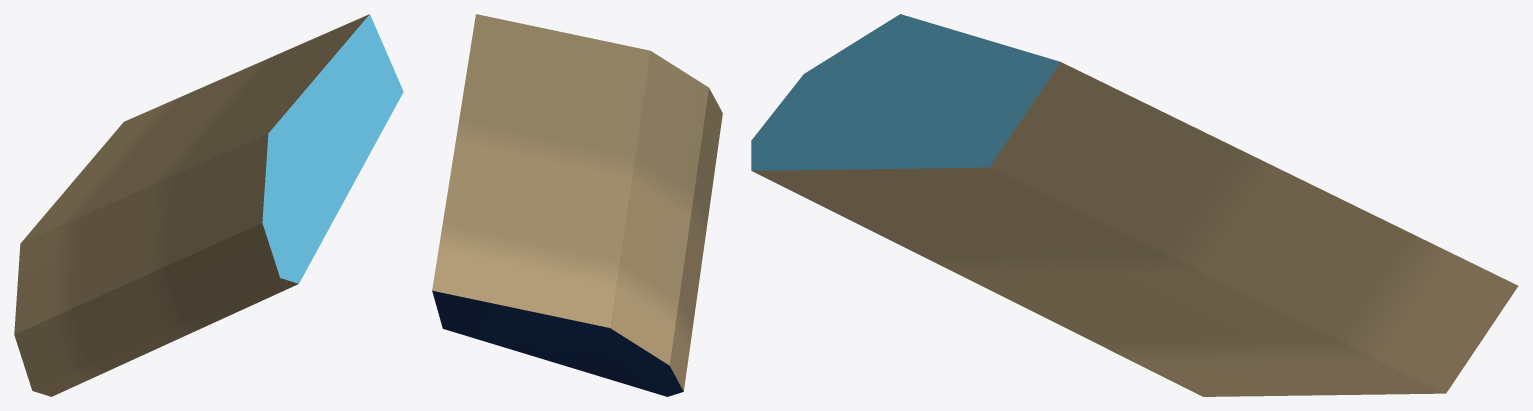
The model's file is 069a_Moldova.glb.
The picture shows the model from 3 angles, left to right: view 1: azimuth 30°, elevation 25°; view 2: azimuth 150°, elevation 25°; view 3: azimuth 270°, elevation 25°; orthographic projection. The views are drawn at different scales.
Parts seen in each view (by area): view 1: part_0; view 2: part_0; view 3: part_0.
Part boxes in pixels (left/top/right/bottom): part_0: left=14, top=14, right=403, bottom=396; part_0: left=432, top=14, right=722, bottom=396; part_0: left=751, top=14, right=1518, bottom=396.
Bounding box in the file's own units: 0.1825 × 0.2021 × 0.2605.
1 material, 1 textured.
